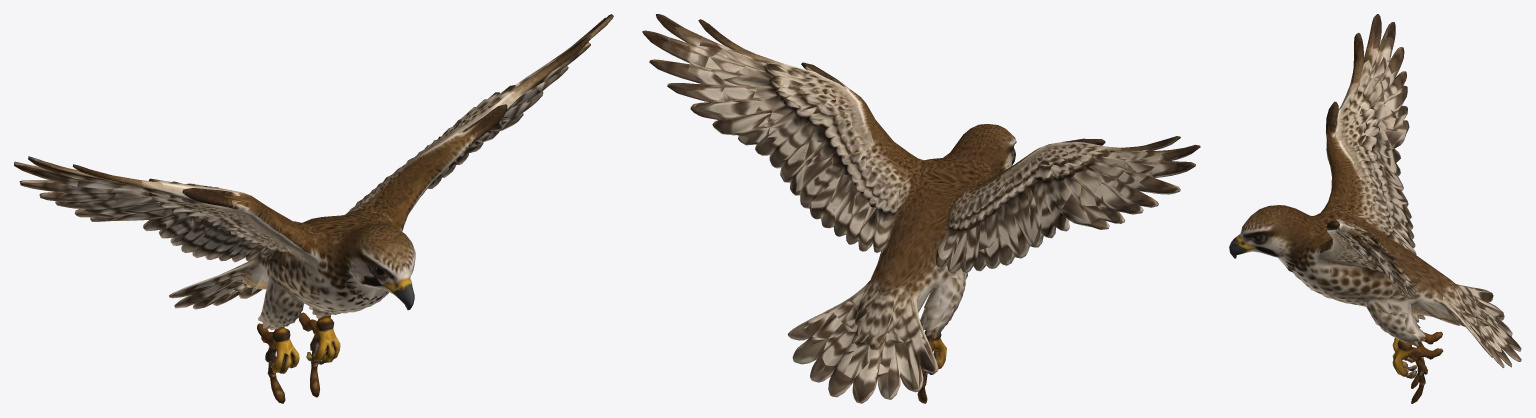
Rendered from saqr.glb.
The picture shows the model from 3 angles, left to right: view 1: azimuth 30°, elevation 25°; view 2: azimuth 150°, elevation 25°; view 3: azimuth 270°, elevation 25°; orthographic projection. The views are drawn at different scales.
Visible parts, largest first — view 1: saqr; view 2: saqr; view 3: saqr.
Part boxes in pixels (x1=…): saqr: x1=14, y1=14, x2=613, y2=403; saqr: x1=642, y1=14, x2=1200, y2=403; saqr: x1=1229, y1=14, x2=1521, y2=403.
Bounding box in the file's own units: 1.9 × 1.02 × 1.
1 material, 1 textured.
